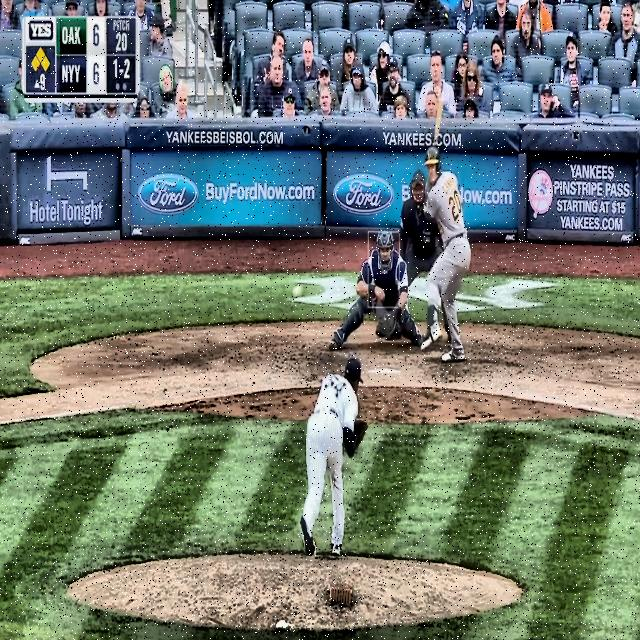baseball: (292, 284, 302, 296)
